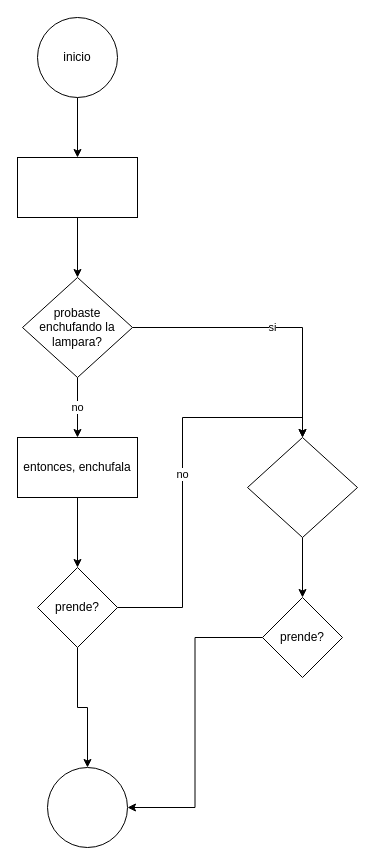
The diagram is 375 pixels wide and 865 high, and some of its shapes have lost their labels. The shapes that lost their labels are listed below. From the top down, each one's box as (x1, y1, x2, y2) in pixels, then its label:
(16, 156, 138, 218): la lampara no enciende
(246, 436, 358, 538): probaste cambiando la ampolleta?
(46, 766, 128, 848): fin
